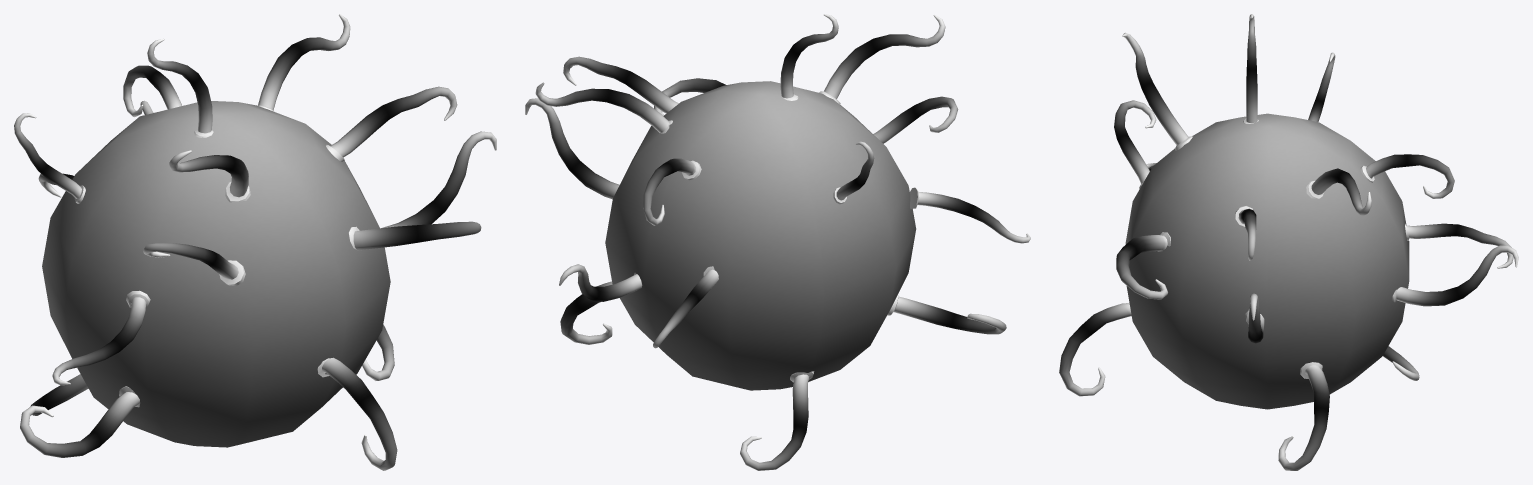
File: NerveBallSm.fbx
3 views of the same model, side by side, from view 1: azimuth 30°, elevation 25°; view 2: azimuth 150°, elevation 25°; view 3: azimuth 270°, elevation 25° (orthographic). The views are drawn at different scales.
Parts seen in each view (by area): view 1: NerveBallSm; view 2: NerveBallSm; view 3: NerveBallSm.
Boxes of the visible parts, bbox=[...] form: NerveBallSm: bbox=[14, 14, 496, 470]; NerveBallSm: bbox=[525, 14, 1030, 470]; NerveBallSm: bbox=[1059, 14, 1518, 470].
Bounding box in the file's own units: 3.33 × 2.74 × 3.08.
